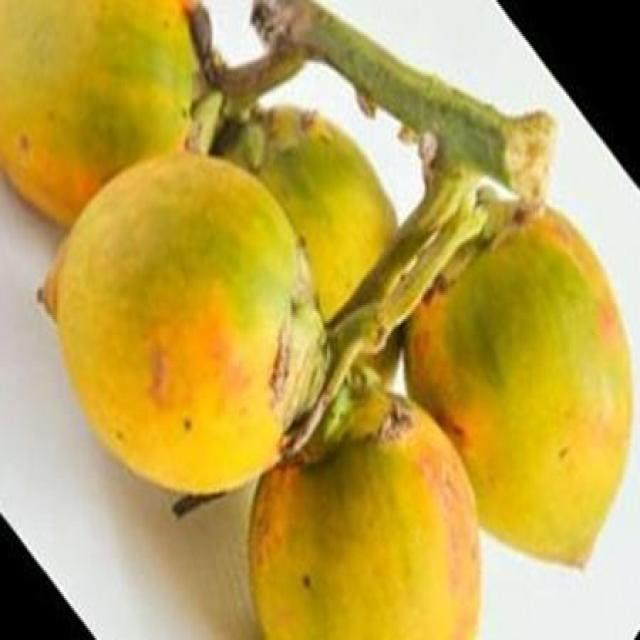good: (37, 152, 336, 516), (404, 205, 634, 570), (245, 409, 484, 638), (236, 110, 400, 321)
